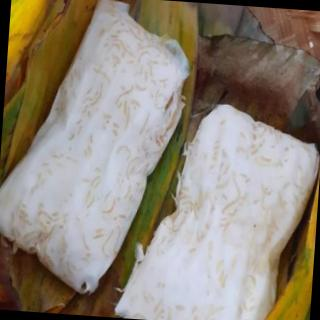Tempe: (1, 1, 192, 303), (111, 95, 320, 320)
